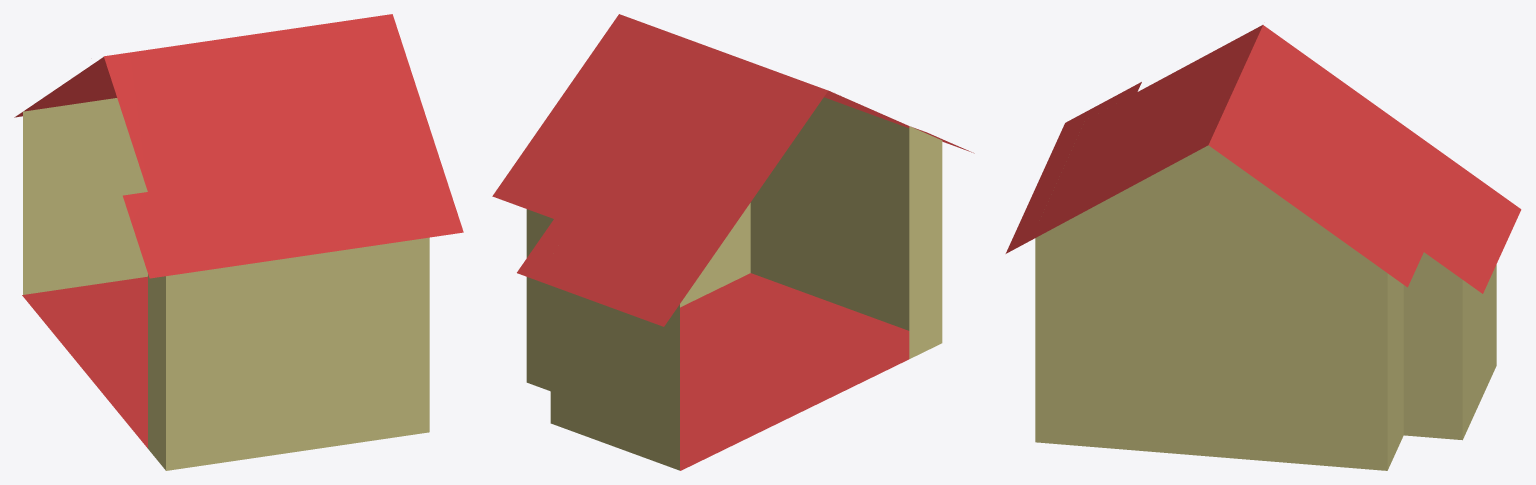
3 renders of one model, left to right at view 1: azimuth 30°, elevation 25°; view 2: azimuth 150°, elevation 25°; view 3: azimuth 270°, elevation 25°, orthographic. The views are drawn at different scales.
Size of the model in its own units: 11.44 by 15.21 by 10.48.
